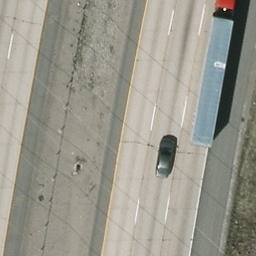car: (151, 136, 177, 179)
truck: (193, 0, 245, 149)
